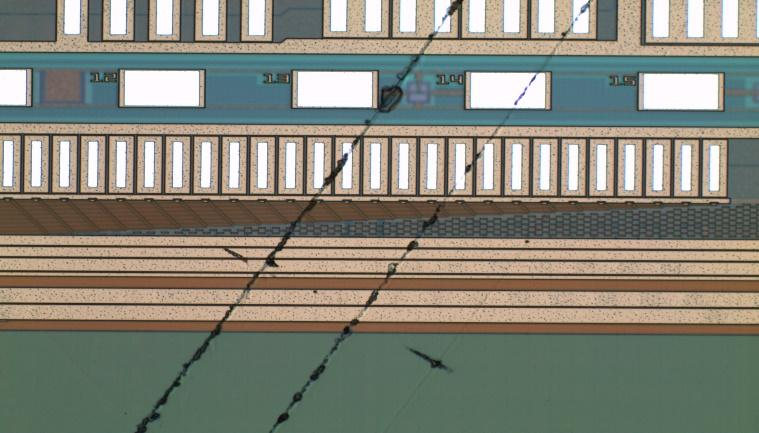SCRATCH: (119, 1, 472, 433), (373, 1, 724, 433), (254, 1, 602, 433), (187, 224, 513, 410)
